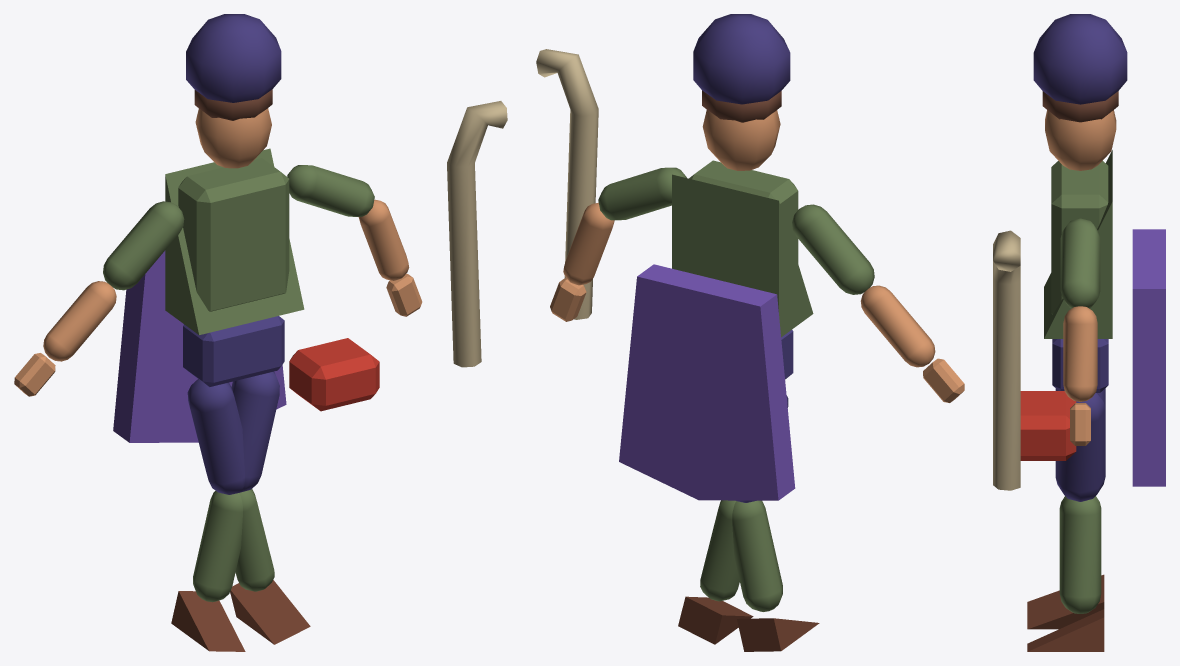
Rendered from adventurer.rustic.glb.
3 views of the same model, side by side, from view 1: azimuth 30°, elevation 25°; view 2: azimuth 150°, elevation 25°; view 3: azimuth 270°, elevation 25° (orthographic).
Visible parts, largest first — view 1: torso, accessory.back, accessory.main-hand, accessory.head, tunic, pelvis, accessory.waist, thigh.left, shin.right, upper-arm.left, thigh.right, head (+9 smaller); view 2: accessory.back, tunic, accessory.head, accessory.main-hand, shin.right, upper-arm.left, head, forearm.left, upper-arm.right, torso, shin.left, forearm.right (+5 smaller); view 3: accessory.back, accessory.main-hand, accessory.head, shin.left, torso, accessory.waist, upper-arm.right, head, tunic, forearm.right, thigh.right, foot.left (+4 smaller).
Part boxes in pixels (x1,y1,x2,y2): torso: (178, 158, 289, 311); accessory.back: (113, 250, 286, 442); accessory.main-hand: (447, 101, 507, 367); accessory.head: (186, 14, 281, 102); tunic: (165, 148, 304, 335); pelvis: (183, 316, 284, 386); accessory.waist: (289, 338, 379, 411); thigh.left: (187, 379, 244, 494); shin.right: (193, 491, 242, 602); upper-arm.left: (103, 201, 184, 290); thigh.right: (231, 371, 279, 492); head: (195, 108, 271, 168); accessory.back: (619, 264, 795, 500); tunic: (672, 174, 813, 337); accessory.head: (693, 14, 790, 104); accessory.main-hand: (536, 49, 598, 319); shin.right: (732, 500, 782, 611); upper-arm.left: (792, 204, 874, 294); head: (702, 110, 780, 170); forearm.left: (860, 285, 935, 367); upper-arm.right: (598, 167, 686, 220); torso: (689, 160, 798, 263); shin.left: (700, 500, 739, 601); forearm.right: (563, 202, 614, 285); accessory.back: (1132, 229, 1165, 486); accessory.main-hand: (993, 230, 1020, 490); accessory.head: (1033, 14, 1127, 104); shin.left: (1059, 497, 1101, 613); torso: (1051, 161, 1108, 314); accessory.waist: (1020, 391, 1076, 460); upper-arm.right: (1060, 218, 1100, 308); head: (1045, 110, 1116, 170); tunic: (1044, 150, 1112, 338); forearm.right: (1063, 306, 1097, 401); thigh.right: (1055, 393, 1105, 501); foot.left: (1027, 609, 1104, 651).
Size of the model in its own units: 2.52 by 3.28 by 0.83.
